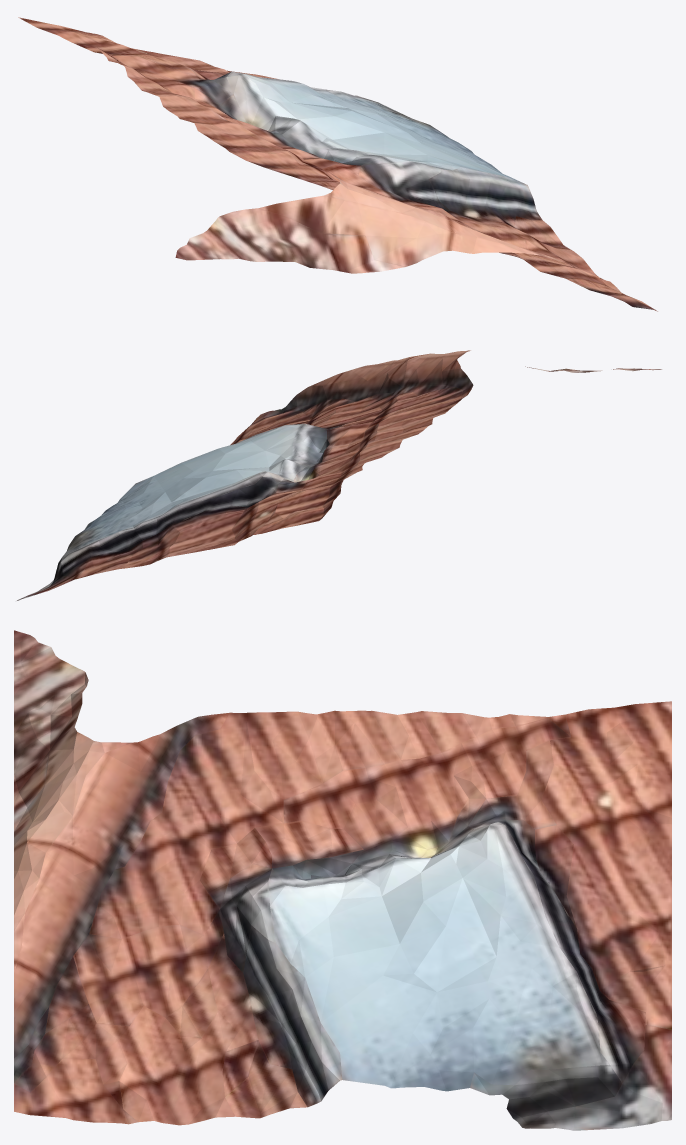
3 renders of one model, top to bottom at view 1: azimuth 30°, elevation 25°; view 2: azimuth 150°, elevation 25°; view 3: azimuth 270°, elevation 25°, orthographic. The views are drawn at different scales.
Bounding box in the file's own units: 1.66 × 0.6333 × 1.67.
Materials: 2 (2 with a texture image).
